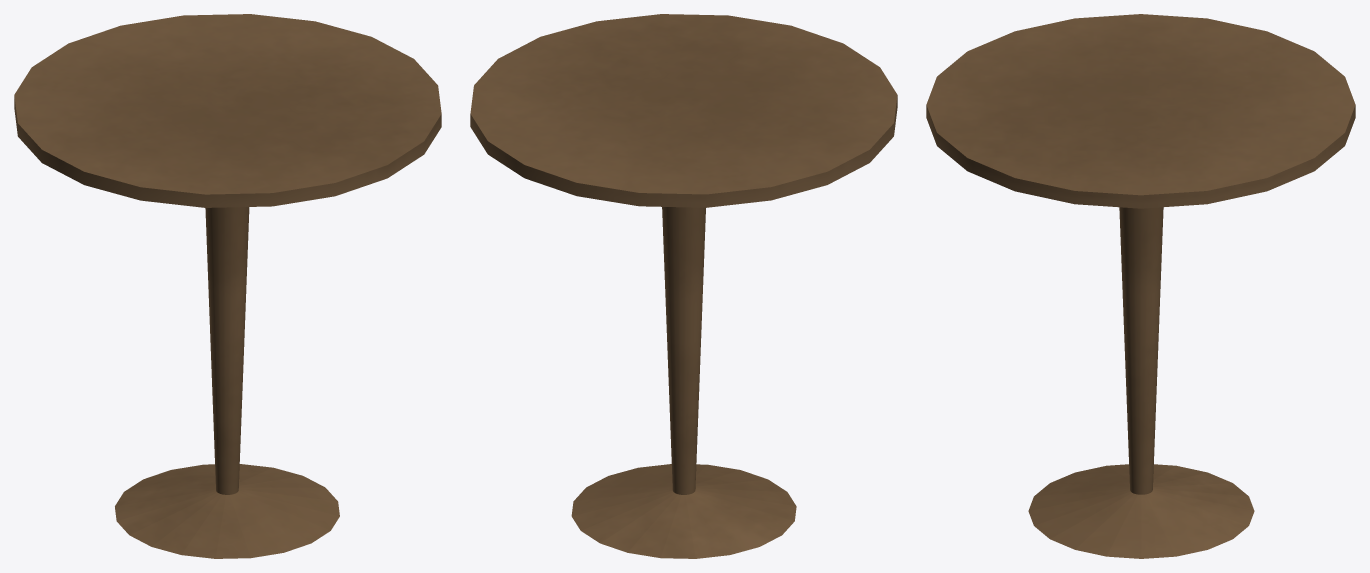
File: round table.fbx
3 views of the same model, side by side, from view 1: azimuth 30°, elevation 25°; view 2: azimuth 150°, elevation 25°; view 3: azimuth 270°, elevation 25° (orthographic).
Visible parts, largest first — view 1: polySurface551; view 2: polySurface551; view 3: polySurface551.
Part boxes in pixels (box(x1,y1,x2,y2)): polySurface551: box(14, 14, 441, 558); polySurface551: box(470, 14, 897, 558); polySurface551: box(926, 14, 1355, 558).
Bounding box in the file's own units: 0.658 × 0.688 × 0.658.
Materials: 1 (1 with a texture image).
